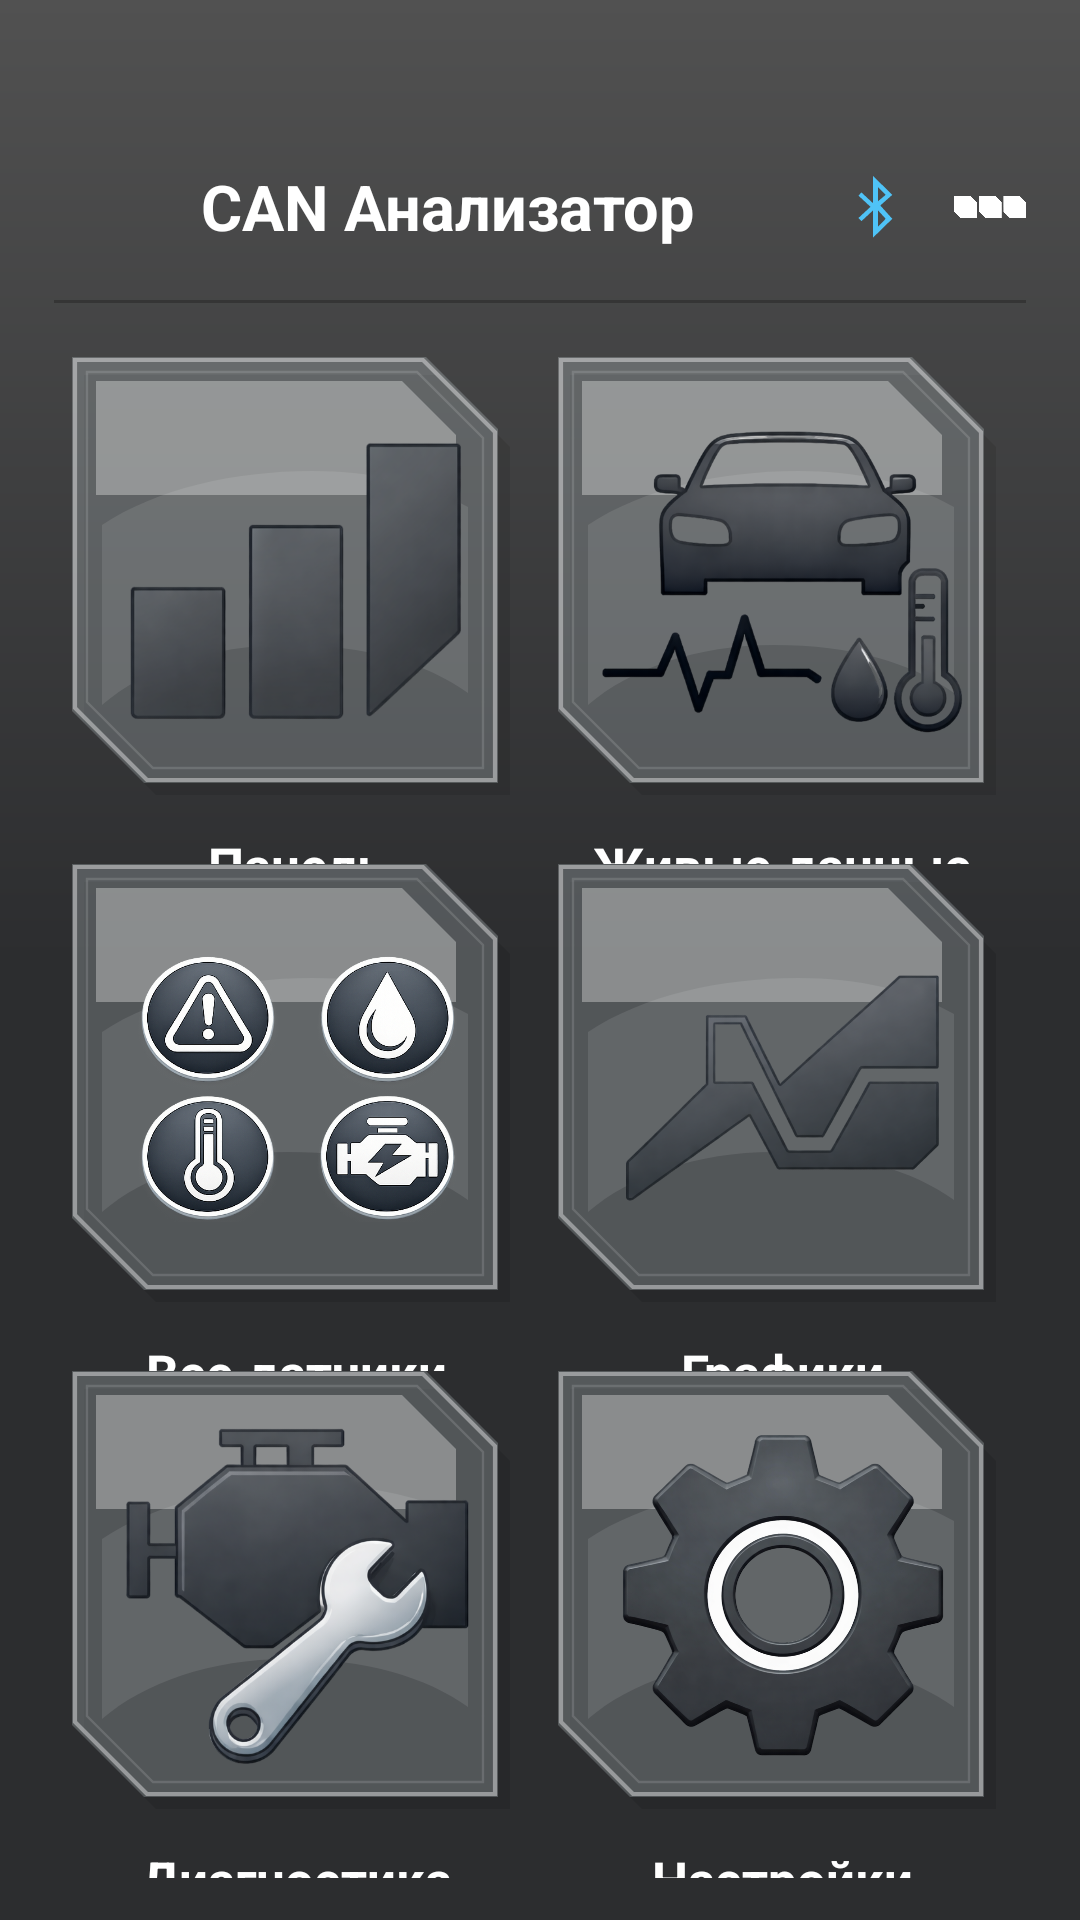

Screen size 1080px×1920px. Icon name, then its box in pixels as (x1, y1, x2, y2):
Ещё: (954, 196, 1026, 218)
